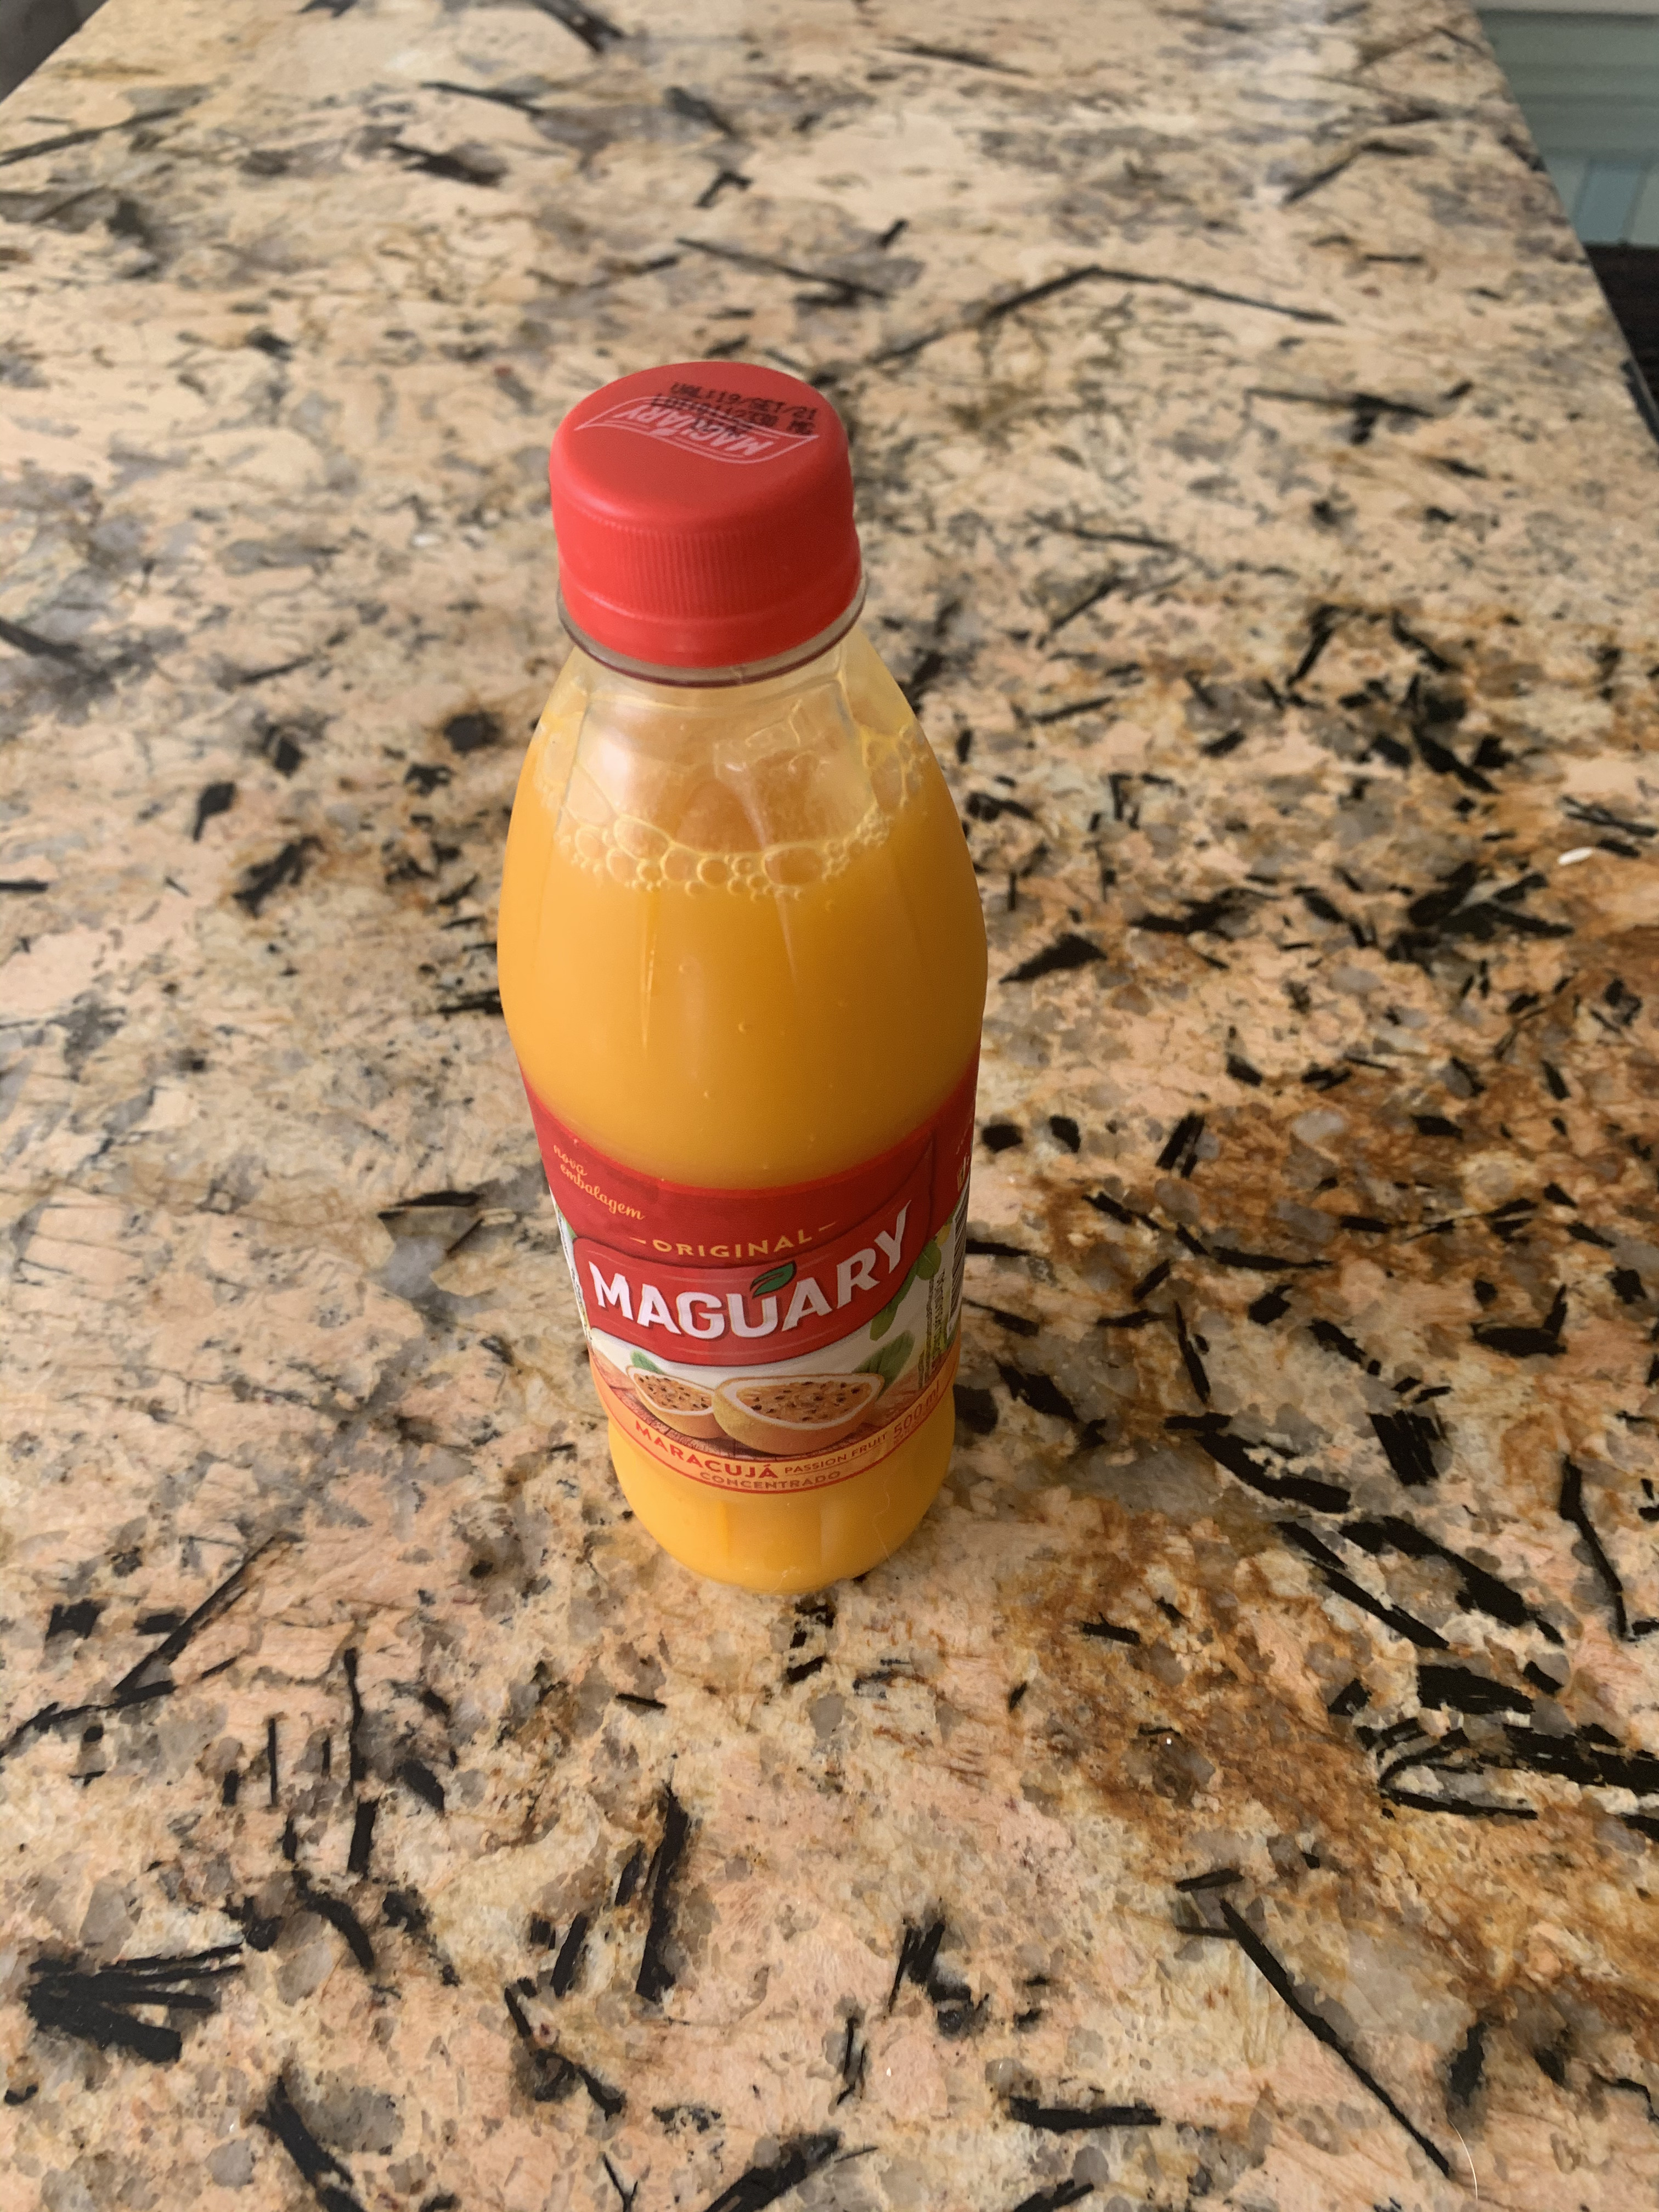maguary: (439, 314, 1075, 1672)
